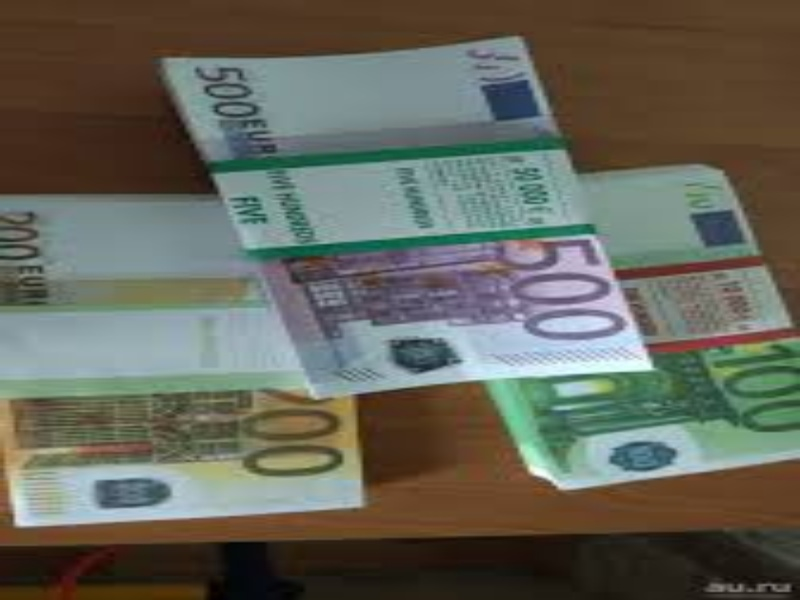cash: (154, 35, 652, 399), (2, 194, 364, 528), (482, 163, 800, 490)
